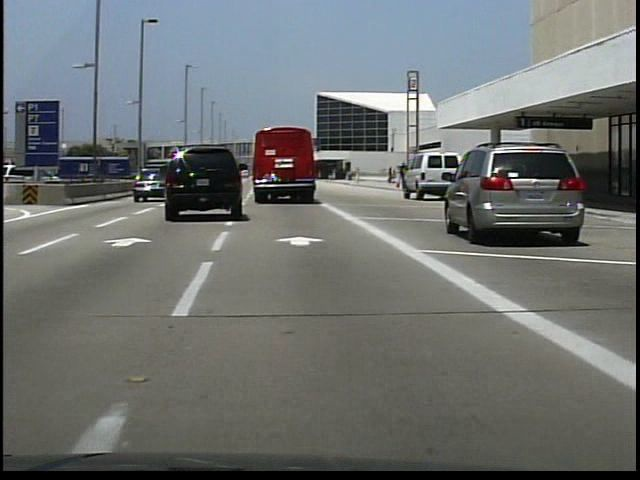person: (398, 160, 410, 195)
